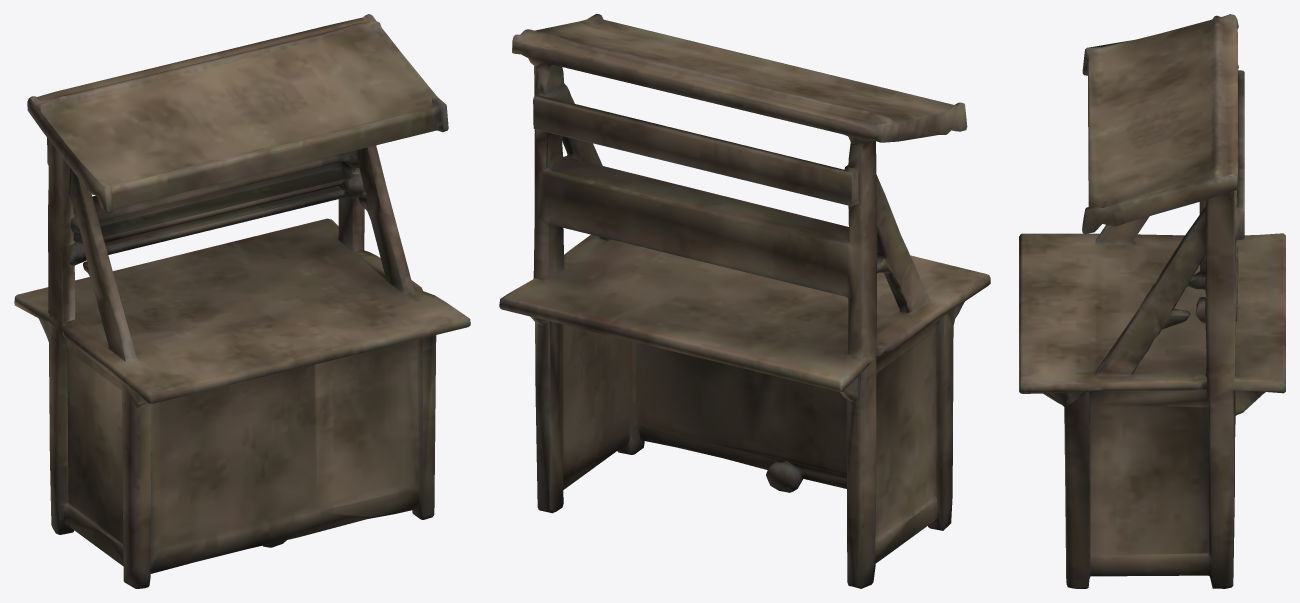
File: simple-wood-market-stall-v002.glb
The picture shows the model from 3 angles, left to right: view 1: azimuth 30°, elevation 25°; view 2: azimuth 150°, elevation 25°; view 3: azimuth 270°, elevation 25°; orthographic projection. The views are drawn at different scales.
Parts seen in each view (by area): view 1: simple-wood-market-stall; view 2: simple-wood-market-stall; view 3: simple-wood-market-stall.
Part boxes in pixels (x1,y1,x2,y2): simple-wood-market-stall: (14, 14, 470, 588); simple-wood-market-stall: (499, 14, 990, 588); simple-wood-market-stall: (1019, 14, 1285, 588).
Bounding box in the file's own units: 1.92 × 2.34 × 1.33.
1 material, 1 textured.
